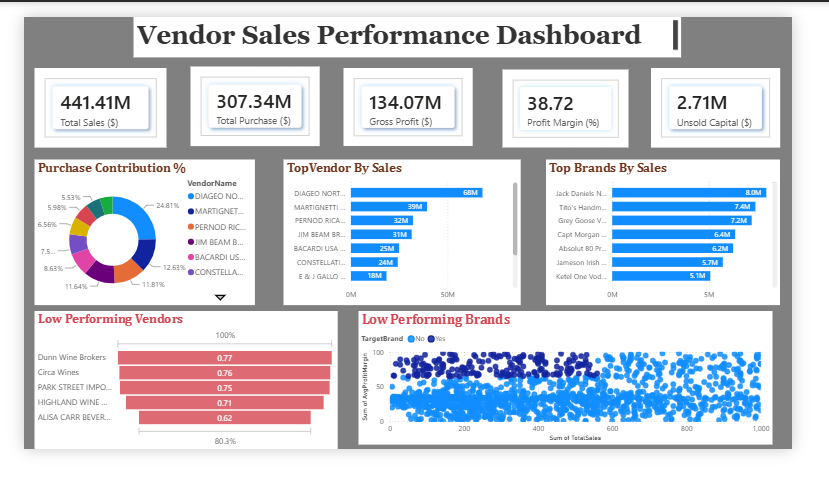

Layout of this report page (visuals, bound fields, positions):
{"tool":"powerbi","page":{"name":"Page 1","canvas":[1280,720],"ordinal":0},"visuals":[{"type":"textbox","box":[182.5,0,912.5,67.5],"z":0},{"type":"cardVisual","fields":{"Data":["Sum(vendor_sales_summary.TotalSalesDollars)"]},"box":[17.5,85,220,132.5],"z":1000},{"type":"cardVisual","fields":{"Data":["Sum(vendor_sales_summary.TotalPurchaseDollars)"]},"box":[277.5,82.5,215,132.5],"z":2000},{"type":"cardVisual","fields":{"Data":["Sum(vendor_sales_summary.GrossProfit)"]},"box":[532.5,85,215,130],"z":3000},{"type":"cardVisual","fields":{"Data":["Avg(vendor_sales_summary.ProfitMargin)"]},"box":[797.5,87.5,210,130],"z":4000},{"type":"cardVisual","fields":{"Data":["vendor_sales_summary.Unsold Capital"]},"box":[1045,85,215,132.5],"z":5000},{"type":"donutChart","title":"Purchase Contribution % ","fields":{"Y":["Sum(PurchaseContribution.PurchaseContribution%)"],"Category":["PurchaseContribution.VendorName"]},"box":[17.5,237.5,367.5,242.5],"z":6000},{"type":"clusteredBarChart","title":"TopVendor By Sales","fields":{"Category":["vendor_sales_summary.VendorName"],"Y":["Sum(vendor_sales_summary.TotalSalesDollars)"]},"box":[432.5,237.5,395,242.5],"z":7000},{"type":"clusteredBarChart","title":"Top Brands By Sales","fields":{"Category":["vendor_sales_summary.Description"],"Y":["Sum(vendor_sales_summary.TotalSalesDollars)"]},"box":[870,237.5,390,242.5],"z":8000},{"type":"funnel","title":"Low Performing Vendors","fields":{"Category":["LowTurnoverVendor.VendorName"],"Y":["Sum(LowTurnoverVendor.AvgStockTurnOver)"]},"box":[17.5,490,505,230],"z":9000},{"type":"scatterChart","title":"Low Performing Brands","fields":{"Category":["BrandPerformance.Description"],"X":["Sum(BrandPerformance.TotalSales)"],"Y":["Sum(BrandPerformance.AvgProfitMargin)"],"Series":["BrandPerformance.TargetBrand"]},"box":[557.5,490,690,222.5],"z":10000}]}

Visuals, with their boxes on the page's 1280x720 design canvas (x1, y1, x2, y2). These are canvas units, not pixel positions in the 829x481 screenshot, which may show the page scaled, cropped or inside an application window:
textbox: select_region(182, 0, 1095, 68)
cardVisual - Sum(vendor_sales_summary.TotalSalesDollars): select_region(18, 85, 238, 218)
cardVisual - Sum(vendor_sales_summary.TotalPurchaseDollars): select_region(278, 82, 492, 215)
cardVisual - Sum(vendor_sales_summary.GrossProfit): select_region(532, 85, 748, 215)
cardVisual - Avg(vendor_sales_summary.ProfitMargin): select_region(798, 88, 1008, 218)
cardVisual - vendor_sales_summary.Unsold Capital: select_region(1045, 85, 1260, 218)
"Purchase Contribution % " donutChart: select_region(18, 238, 385, 480)
"TopVendor By Sales" clusteredBarChart: select_region(432, 238, 828, 480)
"Top Brands By Sales" clusteredBarChart: select_region(870, 238, 1260, 480)
"Low Performing Vendors" funnel: select_region(18, 490, 522, 720)
"Low Performing Brands" scatterChart: select_region(558, 490, 1248, 712)
